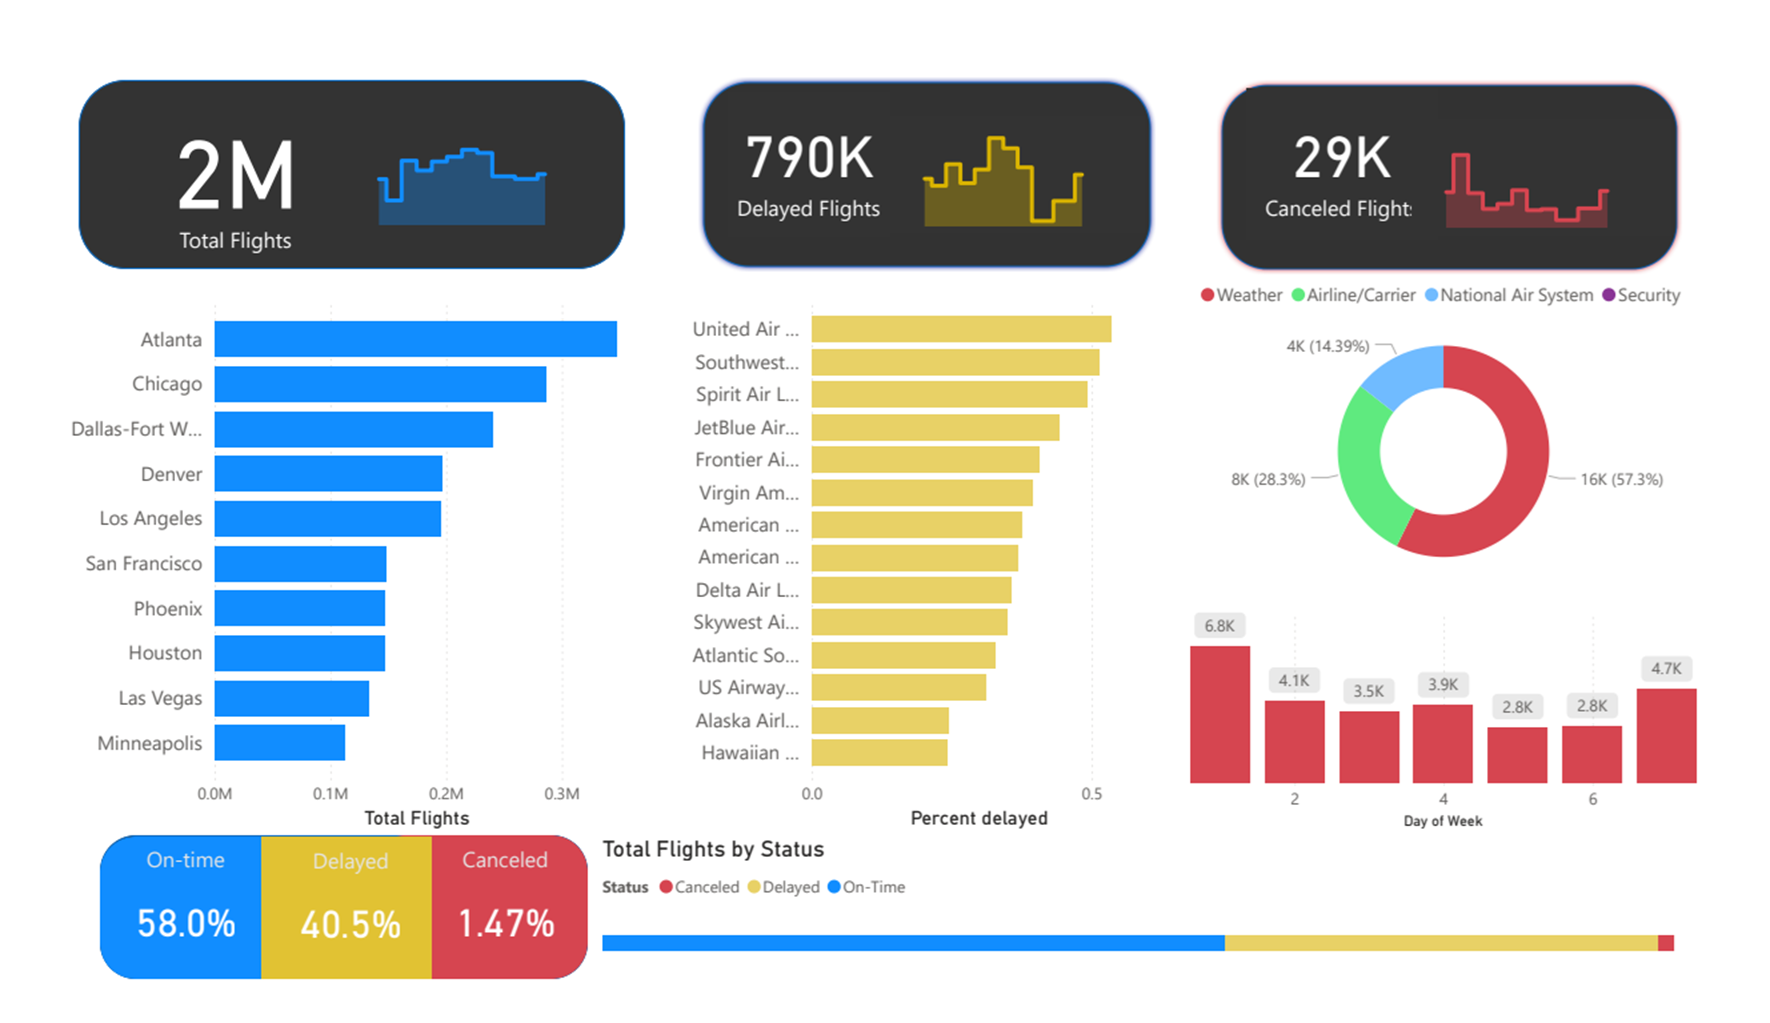

Layout of this report page (visuals, bound fields, positions):
{"tool":"powerbi","page":{"name":"Duplicate of Flights_Status_Dashboard","canvas":[1280,720],"ordinal":0},"visuals":[{"type":"shape","box":[500,34.4,343.3,145.6],"z":0,"group":"g2"},{"type":"shape","box":[888.9,35.6,348.9,145.6],"z":0,"group":"g3"},{"type":"shape","box":[51.1,603.3,365.6,107.8],"z":0},{"type":"shape","box":[34.9,36.1,409.6,142],"z":1000,"group":"g1"},{"type":"card","title":"Total Flights","fields":{"Values":["flights.Canceled Flights"]},"box":[911.2,41.6,143.3,114.4],"z":1000,"group":"g3"},{"type":"card","title":"Total Flights","fields":{"Values":["flights.Delayed Flights"]},"box":[521.6,45.8,122.3,108.4],"z":1000,"group":"g2"},{"type":"barChart","title":"Total Flights by City","fields":{"Y":["flights.Total Flights"],"Category":["airports.CITY"]},"box":[11.6,190.8,448,411.9],"z":1000},{"type":"card","title":"Total Flights","fields":{"Values":["flights.Total Flights"]},"box":[58.4,45.1,188.7,126.5],"z":2000,"group":"g1"},{"type":"lineChart","fields":{"Y":["flights.Delayed Flights"],"Category":["flights.MONTH"]},"box":[643.9,63.3,191.2,87.7],"z":2000,"group":"g2"},{"type":"lineChart","fields":{"Y":["flights.Canceled Flights"],"Category":["flights.MONTH"]},"box":[1035.1,64.5,194.3,87.7],"z":2000,"group":"g3"},{"type":"barChart","fields":{"Y":["flights.Percent delayed"],"Category":["airlines.AIRLINE"]},"box":[478.9,191.1,371.1,412.2],"z":2000},{"type":"lineChart","fields":{"Y":["flights.Total Flights"],"Category":["flights.MONTH"]},"box":[234.2,64.2,199.8,85.5],"z":3000,"group":"g1"},{"type":"donutChart","fields":{"Category":["cancellation_codes.CANCELLATION_DESCRIPTION"],"Y":["flights.Canceled Flights"]},"box":[864.4,176.7,390,247.8],"z":3000},{"type":"columnChart","fields":{"Category":["flights.DAY_OF_WEEK"],"Y":["flights.Canceled Flights"]},"box":[864.4,424.4,390,178.9],"z":4000},{"type":"hundredPercentStackedBarChart","fields":{"Y":["flights.Total Flights"],"Series":["flights.Status"]},"box":[423.3,603.3,813.3,107.8],"z":5000},{"type":"group","id":"g1","title":"Group 1","box":[34.9,36.1,409.6,142],"z":6000},{"type":"card","title":"On-time","fields":{"Values":["flights.Percent On-time"]},"box":[60.5,610.7,109.4,91.6],"z":6000,"group":"g4"},{"type":"group","id":"g2","title":"Group 2","box":[500,34.4,350,145.6],"z":7000},{"type":"card","title":"Delayed","fields":{"Values":["flights.Percent delayed"]},"box":[181.7,612.2,114.4,92],"z":7000,"group":"g4"},{"type":"shape","box":[51.2,603.9,162.9,107.1],"z":7500},{"type":"group","id":"g3","title":"Group 3","box":[888.9,35.6,348.9,145.6],"z":8000},{"type":"card","title":"Canceled","fields":{"Values":["flights.Percent canceled"]},"box":[303.1,611.1,103.6,91.9],"z":8000,"group":"g4"},{"type":"shape","box":[171.6,604.2,128,107.1],"z":8937,"group":"g5"},{"type":"group","id":"g4","title":"Group 4","box":[60.5,610.7,346.2,93.4],"z":9000,"group":"g5"},{"type":"shape","box":[252.5,602.8,164.1,108.2],"z":9188},{"type":"group","id":"g5","title":"Group 5","box":[60.5,604.2,346.2,107.1],"z":9501}]}

Visuals, with their boxes in screenshot pixels (x1, y1, x2, y2), scaled from the page's 1280x720 canvas onto the 1770x1023 screenshot:
shape: detection(691, 49, 1166, 256)
shape: detection(1229, 51, 1712, 257)
shape: detection(71, 857, 576, 1010)
shape: detection(48, 51, 615, 253)
"Total Flights" card: detection(1260, 59, 1458, 222)
"Total Flights" card: detection(721, 65, 890, 219)
"Total Flights by City" barChart: detection(16, 271, 636, 856)
"Total Flights" card: detection(81, 64, 342, 244)
lineChart - flights.Delayed Flights x flights.MONTH: detection(890, 90, 1155, 215)
lineChart - flights.Canceled Flights x flights.MONTH: detection(1431, 92, 1700, 216)
barChart - flights.Percent delayed x airlines.AIRLINE: detection(662, 272, 1175, 857)
lineChart - flights.Total Flights x flights.MONTH: detection(324, 91, 600, 213)
donutChart - cancellation_codes.CANCELLATION_DESCRIPTION x flights.Canceled Flights: detection(1195, 251, 1735, 603)
columnChart - flights.DAY_OF_WEEK x flights.Canceled Flights: detection(1195, 603, 1735, 857)
hundredPercentStackedBarChart - flights.Total Flights x flights.Status: detection(585, 857, 1710, 1010)
"Group 1" group: detection(48, 51, 615, 253)
"On-time" card: detection(84, 868, 235, 998)
"Group 2" group: detection(691, 49, 1175, 256)
"Delayed" card: detection(251, 870, 409, 1001)
shape: detection(71, 858, 296, 1010)
"Group 3" group: detection(1229, 51, 1712, 257)
"Canceled" card: detection(419, 868, 562, 999)
shape: detection(237, 858, 414, 1011)
"Group 4" group: detection(84, 868, 562, 1000)
shape: detection(349, 856, 576, 1010)
"Group 5" group: detection(84, 858, 562, 1011)
